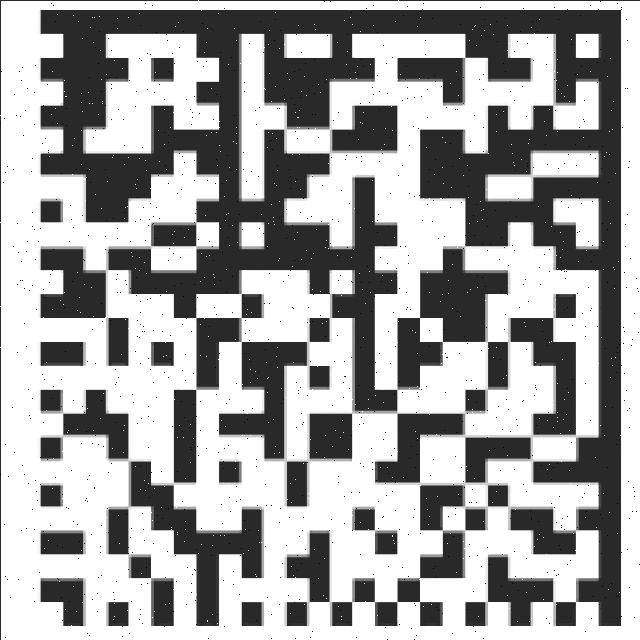datamatrix: (26, 0, 632, 637)
